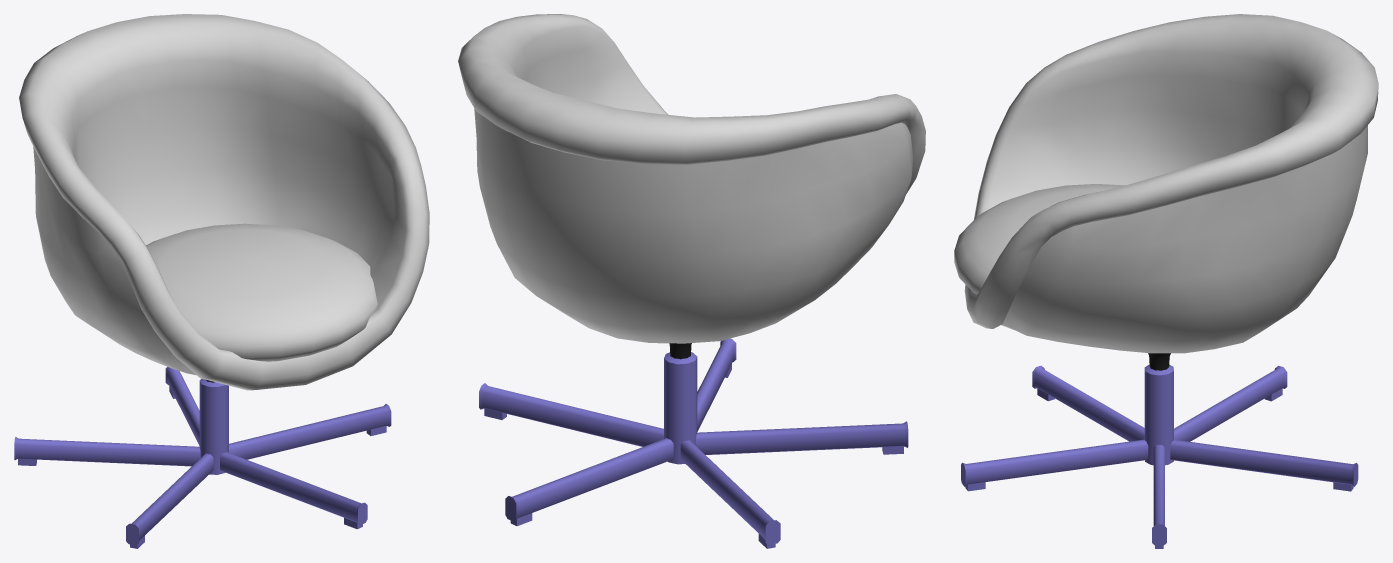
Rendered from SkruvstaSwivelChair.FBX.
The picture shows the model from 3 angles, left to right: view 1: azimuth 30°, elevation 25°; view 2: azimuth 150°, elevation 25°; view 3: azimuth 270°, elevation 25°; orthographic projection. The views are drawn at different scales.
Parts seen in each view (by area): view 1: SkruvstaSwivelChair; view 2: SkruvstaSwivelChair; view 3: SkruvstaSwivelChair.
Boxes of the visible parts, left/top/right/bottom form: SkruvstaSwivelChair: left=14, top=14, right=429, bottom=548; SkruvstaSwivelChair: left=458, top=14, right=925, bottom=548; SkruvstaSwivelChair: left=954, top=14, right=1378, bottom=548.
Bounding box in the file's own units: 65.41 × 69.01 × 70.13.
